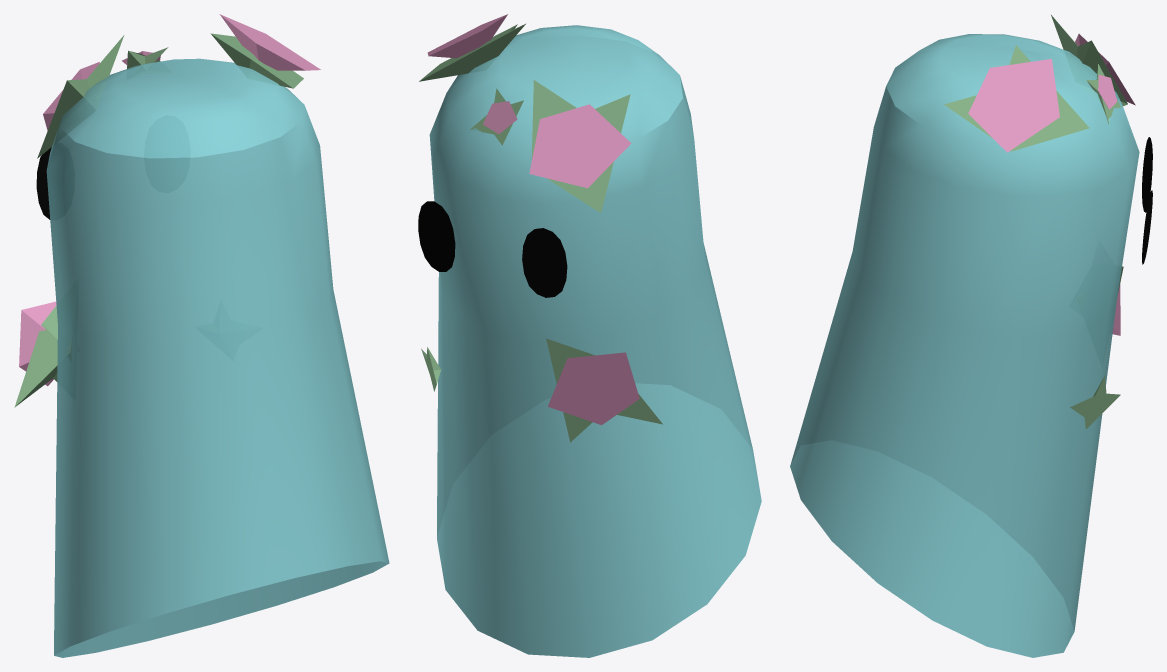
The model's file is Цветочный Призрак 2.fbx.
3 renders of one model, left to right at view 1: azimuth 30°, elevation 25°; view 2: azimuth 150°, elevation 25°; view 3: azimuth 270°, elevation 25°, orthographic. The views are drawn at different scales.
Visible parts, largest first — view 1: Cylinder, Cylinder.006, Cylinder.008, Cylinder.013, Cylinder.014, Cylinder.007, Plane.001, Cylinder.010; view 2: Cylinder, Cylinder.005, Cylinder.007, Cylinder.006, Plane.001, Plane.002, Cylinder.014, Cylinder.008, Cylinder.013, Cylinder.009, Cylinder.010; view 3: Cylinder, Cylinder.013, Cylinder.014, Cylinder.006, Cylinder.012, Plane.001.
Part boxes in pixels (box(x1,y1,x2,y2)): Cylinder: box(46, 58, 389, 657); Cylinder.006: box(37, 35, 124, 158); Cylinder.008: box(14, 305, 71, 407); Cylinder.013: box(219, 14, 320, 70); Cylinder.014: box(210, 33, 303, 88); Cylinder.007: box(19, 301, 56, 386); Plane.001: box(36, 147, 51, 219); Cylinder.010: box(127, 47, 170, 77); Cylinder: box(429, 25, 761, 657); Cylinder.005: box(529, 104, 631, 188); Cylinder.007: box(548, 352, 639, 425); Cylinder.006: box(531, 80, 630, 212); Plane.001: box(522, 228, 567, 297); Plane.002: box(418, 201, 455, 271); Cylinder.014: box(419, 24, 525, 81); Cylinder.008: box(546, 338, 662, 442); Cylinder.013: box(427, 14, 507, 58); Cylinder.009: box(483, 101, 517, 133); Cylinder.010: box(470, 88, 523, 145); Cylinder: box(790, 34, 1139, 657); Cylinder.013: box(968, 59, 1059, 152); Cylinder.014: box(944, 45, 1089, 151); Cylinder.006: box(1051, 15, 1127, 106); Cylinder.012: box(1070, 375, 1120, 429); Plane.001: box(1142, 137, 1152, 212).
Size of the model in its own units: 122 by 239 by 131.
